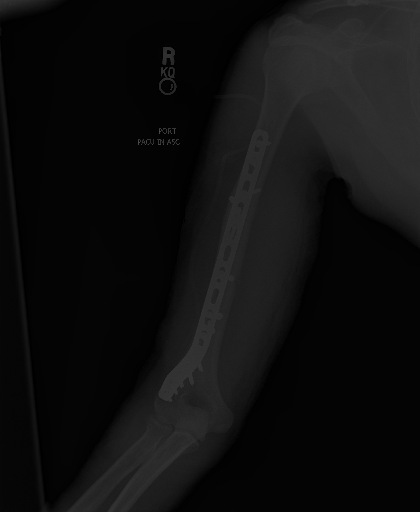implant: (160, 125, 271, 400)
